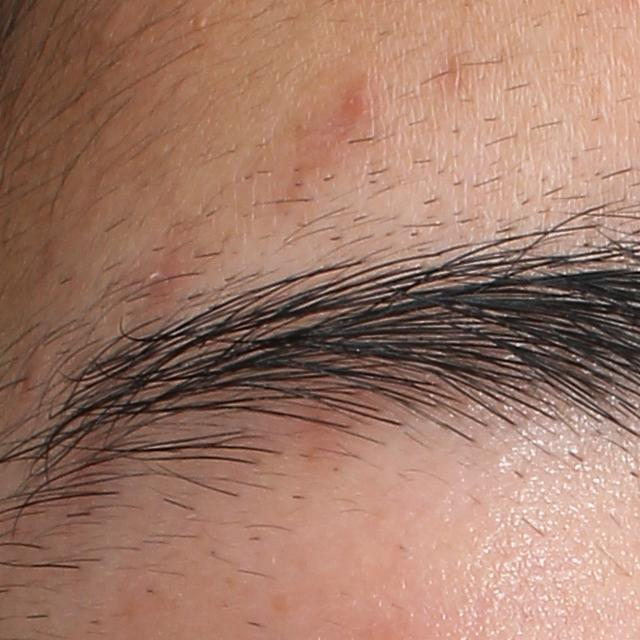comedo: (193, 12, 211, 30)
